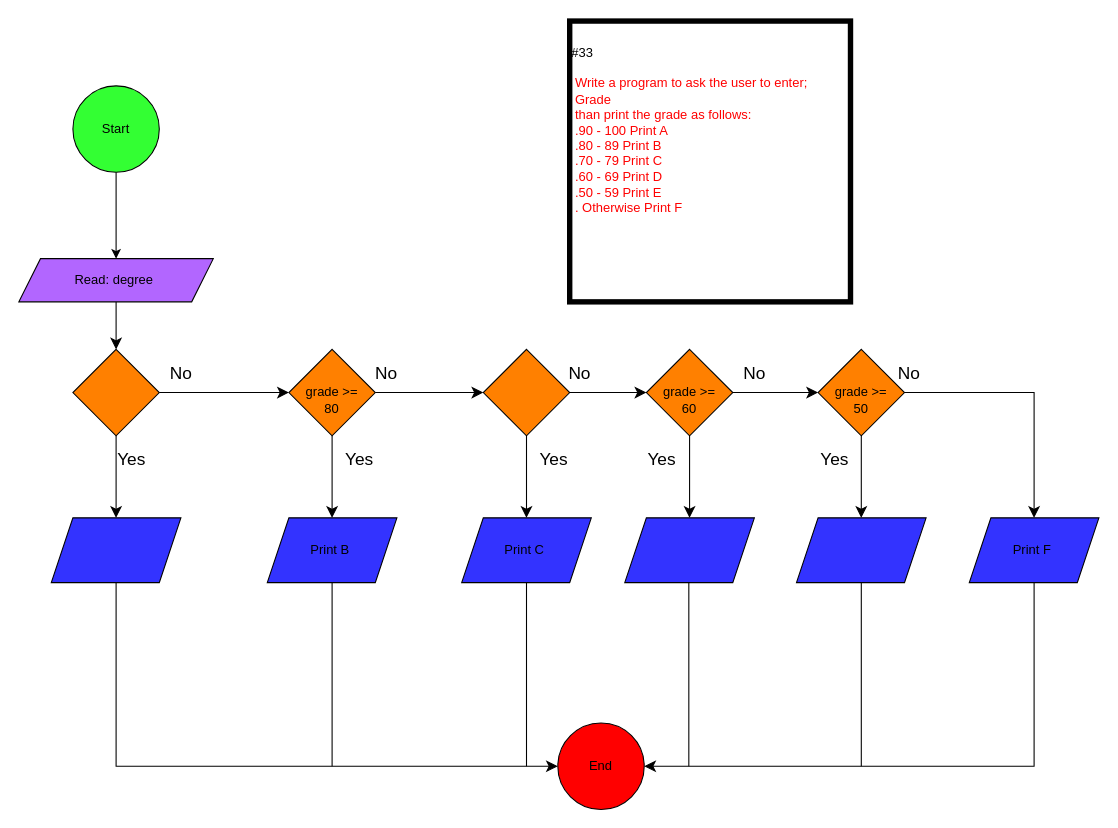
The diagram is 1118 pixels wide and 828 high, and some of its shapes have lost their labels. Each missing label, with the centre of its shape:
grade >= 70: (526,392)
grade >= 90: (115,392)
Print A: (115,550)
Print D: (689,550)
Print E: (860,550)
